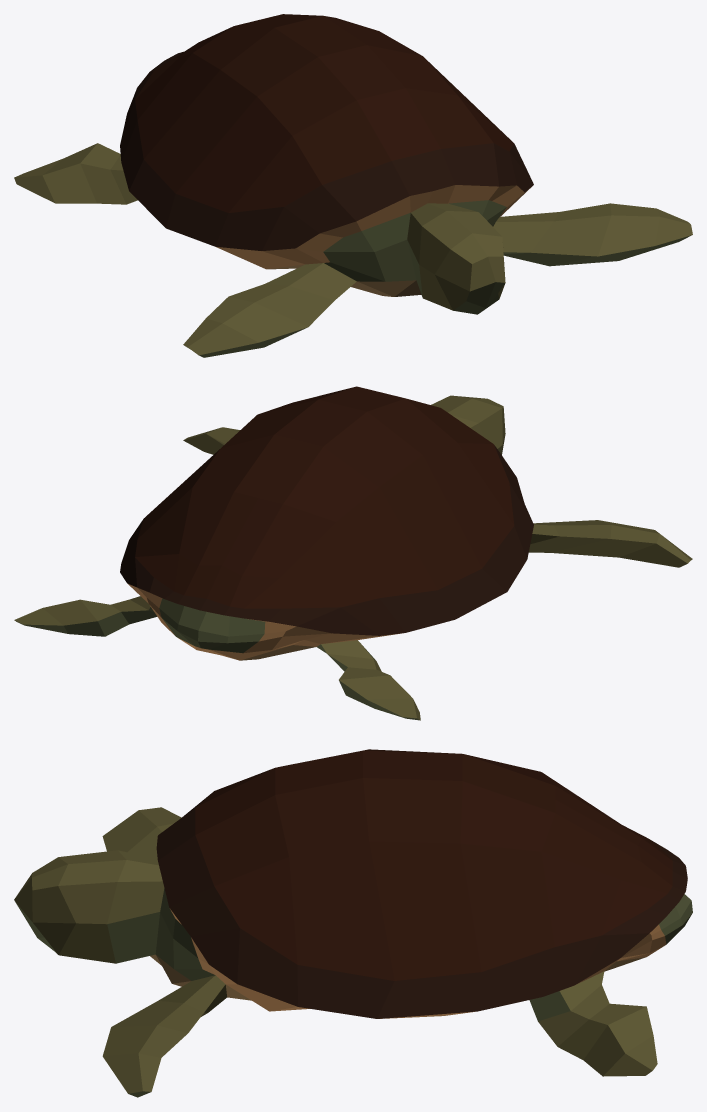
Rendered from Turtle.fbx.
3 views of the same model, one above another, from view 1: azimuth 30°, elevation 25°; view 2: azimuth 150°, elevation 25°; view 3: azimuth 270°, elevation 25° (orthographic). The views are drawn at different scales.
Visible parts, largest first — view 1: Turtle; view 2: Turtle; view 3: Turtle.
Boxes of the visible parts, bbox=[...] form: Turtle: bbox=[14, 14, 692, 357]; Turtle: bbox=[14, 386, 692, 720]; Turtle: bbox=[14, 749, 692, 1097].
Bounding box in the file's own units: 113 × 42.35 × 116.
